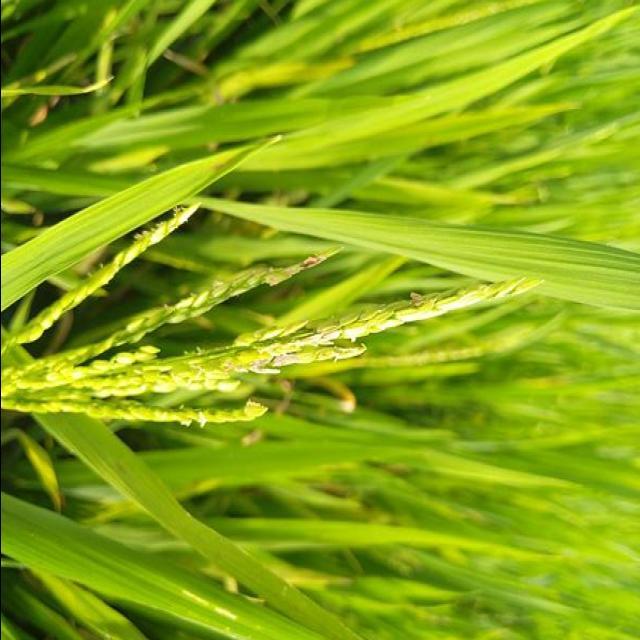Panicle Blight: (266, 253, 330, 284), (244, 352, 299, 375), (302, 331, 340, 343)
